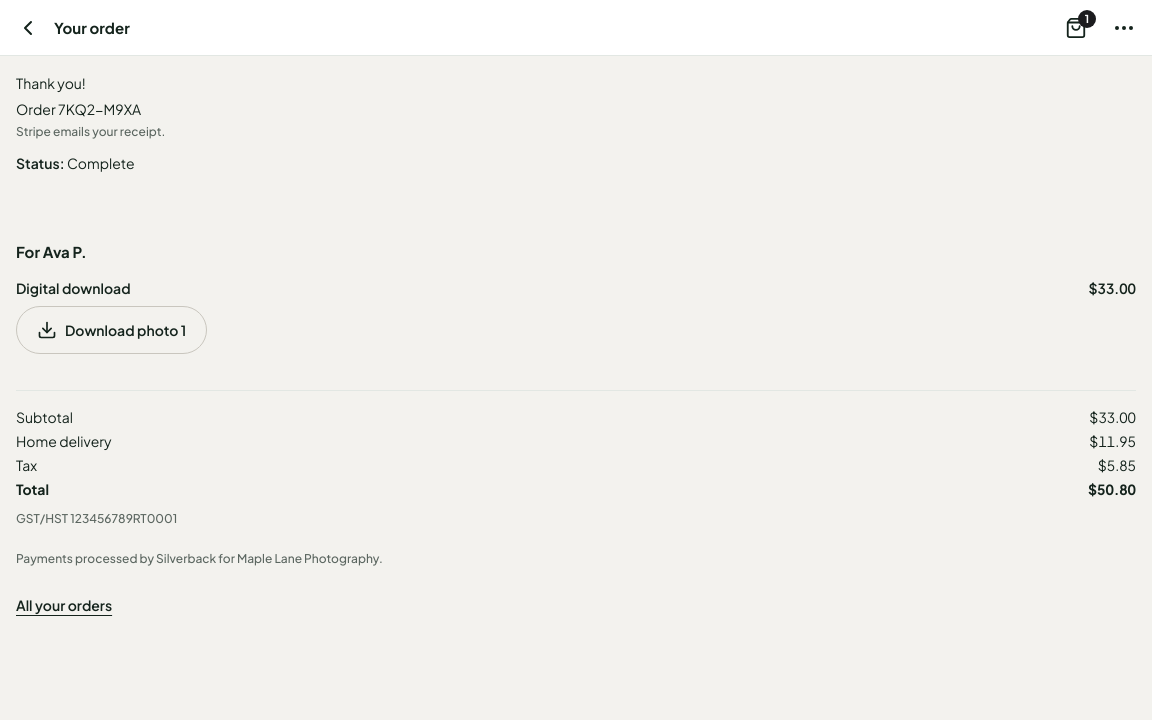
Test case: the order page (ADR 0023 §6) › says a download is being prepared instead of failing
Click the button "Download photo 1" at point(112, 330), box [16,306,207,354]
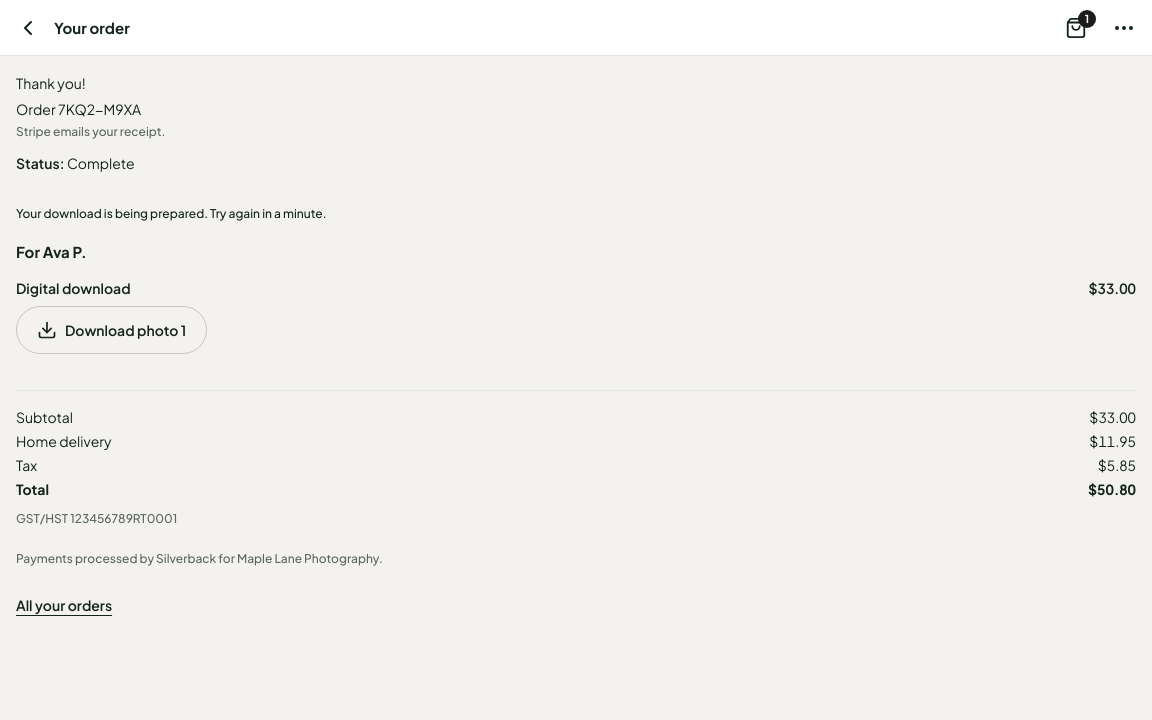
Result: the text "Your download is being prepared. Try again in a minute." is shown at [16,206,326,221]
